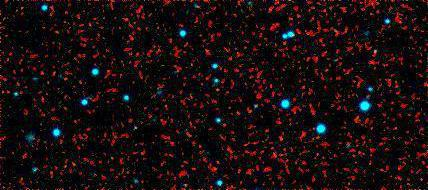star: (353, 82, 383, 112)
